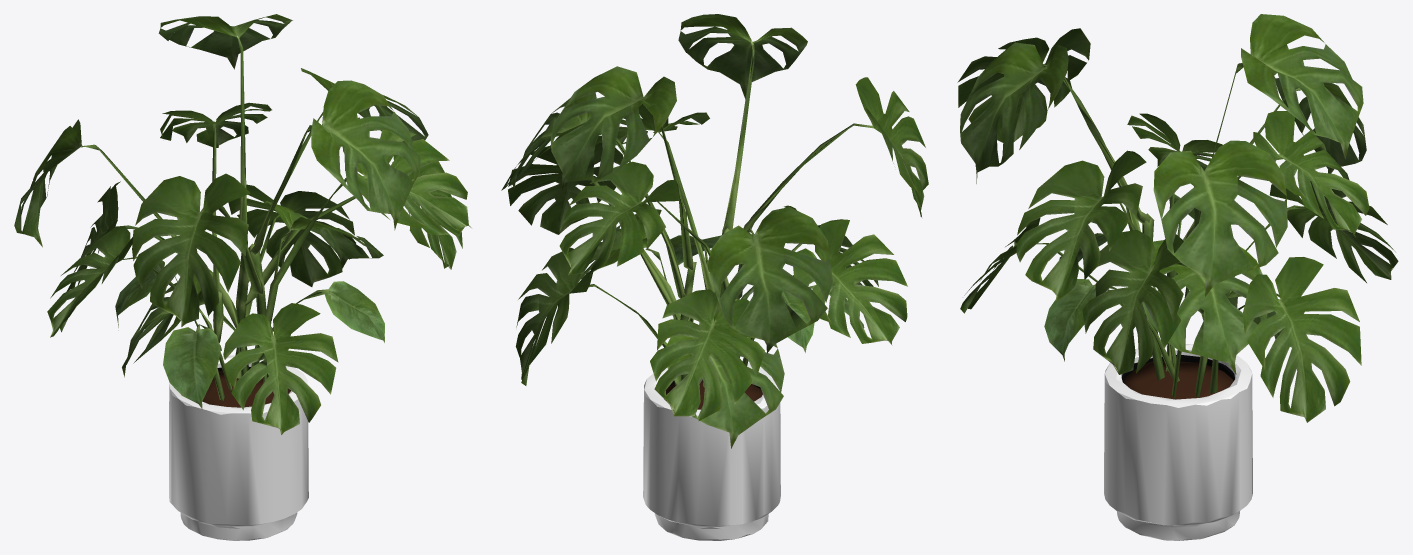
The model's file is Small Monstera.glb.
3 views of the same model, side by side, from view 1: azimuth 30°, elevation 25°; view 2: azimuth 150°, elevation 25°; view 3: azimuth 270°, elevation 25° (orthographic). The views are drawn at different scales.
Parts seen in each view (by area): view 1: Leaves3, Pot.003, Leaves, Leaves2, Soil.003; view 2: Leaves, Leaves2, Pot.003, Leaves3; view 3: Leaves, Leaves3, Pot.003, Leaves2, Soil.003.
Boxes of the visible parts, x1,y1,x2,y2 form: Leaves3: (115, 80, 471, 434); Pot.003: (169, 355, 308, 540); Leaves: (66, 14, 462, 378); Leaves2: (14, 102, 271, 350); Soil.003: (202, 371, 290, 407); Leaves: (501, 66, 784, 448); Leaves2: (559, 161, 907, 353); Pot.003: (643, 362, 780, 540); Leaves3: (558, 14, 928, 387); Leaves: (1082, 14, 1398, 422); Leaves3: (957, 28, 1266, 398); Pot.003: (1104, 344, 1252, 540); Leaves2: (1127, 77, 1369, 278); Soil.003: (1123, 361, 1233, 399).
Bounding box in the file's own units: 0.439 × 0.4931 × 0.3934.
Materials: 4 (1 with a texture image).
